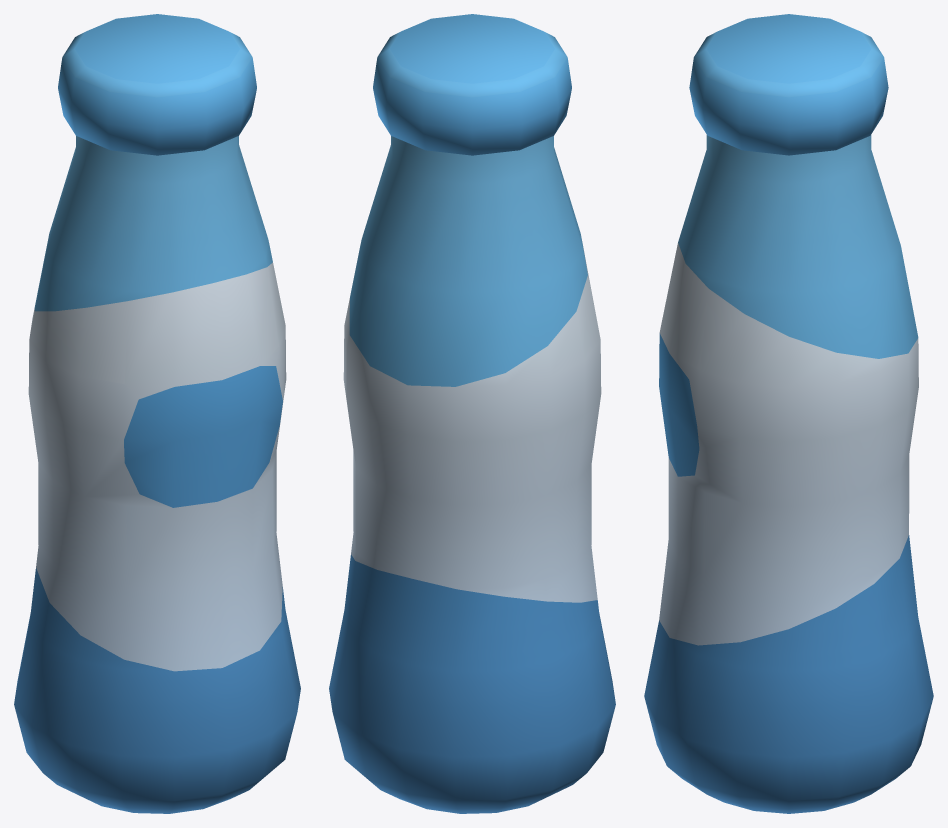
The model's file is yogurt_002.glb.
3 views of the same model, side by side, from view 1: azimuth 30°, elevation 25°; view 2: azimuth 150°, elevation 25°; view 3: azimuth 270°, elevation 25° (orthographic).
Parts seen in each view (by area): view 1: yogurt_002; view 2: yogurt_002; view 3: yogurt_002.
Boxes of the visible parts, x1=… form: yogurt_002: x1=14, y1=14, x2=300, y2=813; yogurt_002: x1=329, y1=14, x2=615, y2=813; yogurt_002: x1=644, y1=14, x2=933, y2=813.
Bounding box in the file's own units: 0.0543 × 0.1503 × 0.0543.
1 material, 1 textured.
